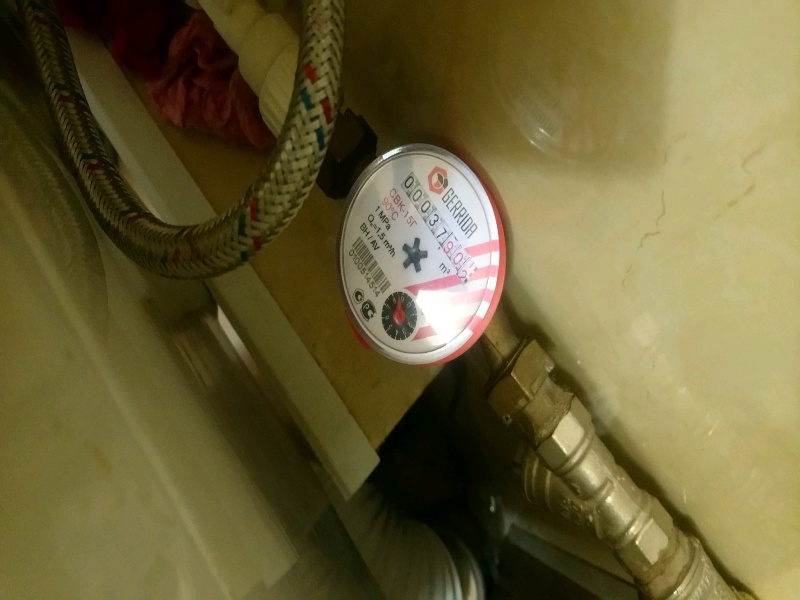dial: (403, 174, 475, 276)
